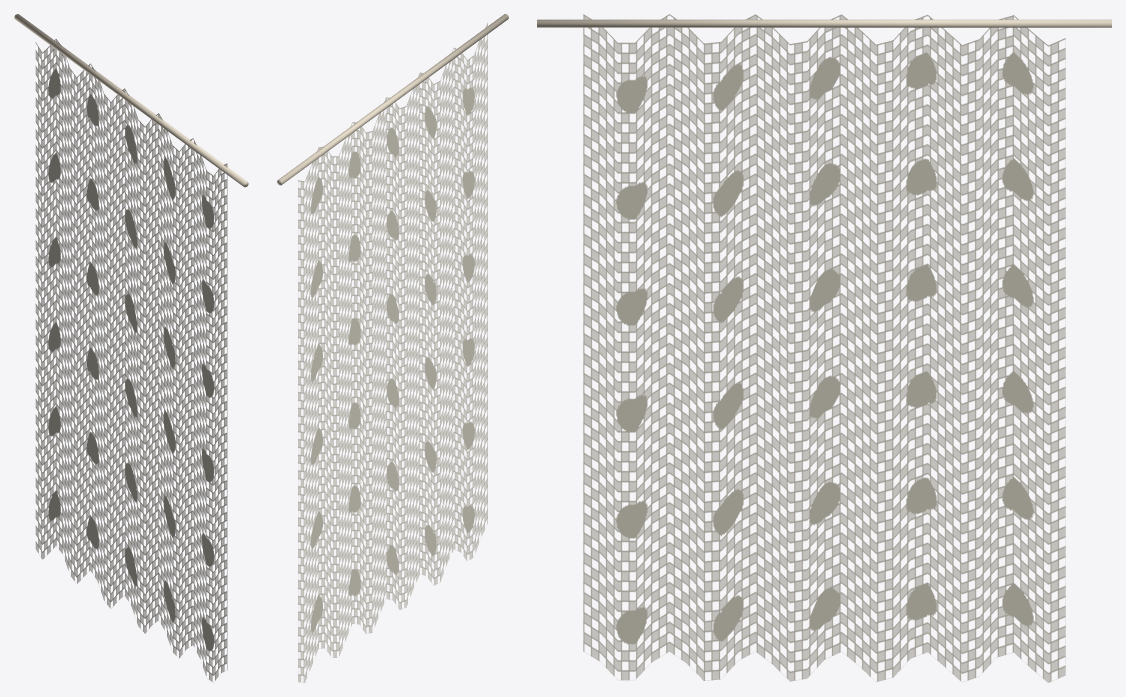
Rendered from curtain-lace.glb.
The picture shows the model from 3 angles, left to right: view 1: azimuth 30°, elevation 25°; view 2: azimuth 150°, elevation 25°; view 3: azimuth 270°, elevation 25°; orthographic projection. The views are drawn at different scales.
Visible parts, largest first — view 1: sheer, hem-rod; view 2: sheer, hem-rod; view 3: sheer, hem-rod.
Part boxes in pixels (bbox=[...]): sheer: bbox=[35, 39, 227, 681]; hem-rod: bbox=[14, 14, 248, 187]; sheer: bbox=[298, 23, 487, 682]; hem-rod: bbox=[277, 14, 508, 185]; sheer: bbox=[583, 14, 1065, 682]; hem-rod: bbox=[537, 19, 1111, 27].
Size of the model in its own units: 0.024 by 2.18 by 1.7.
2 materials, 1 textured.
